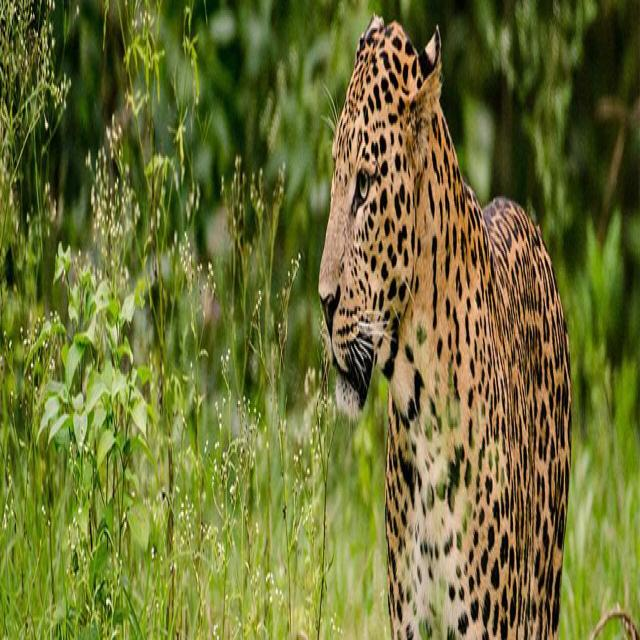Leopard: (318, 18, 573, 632)
